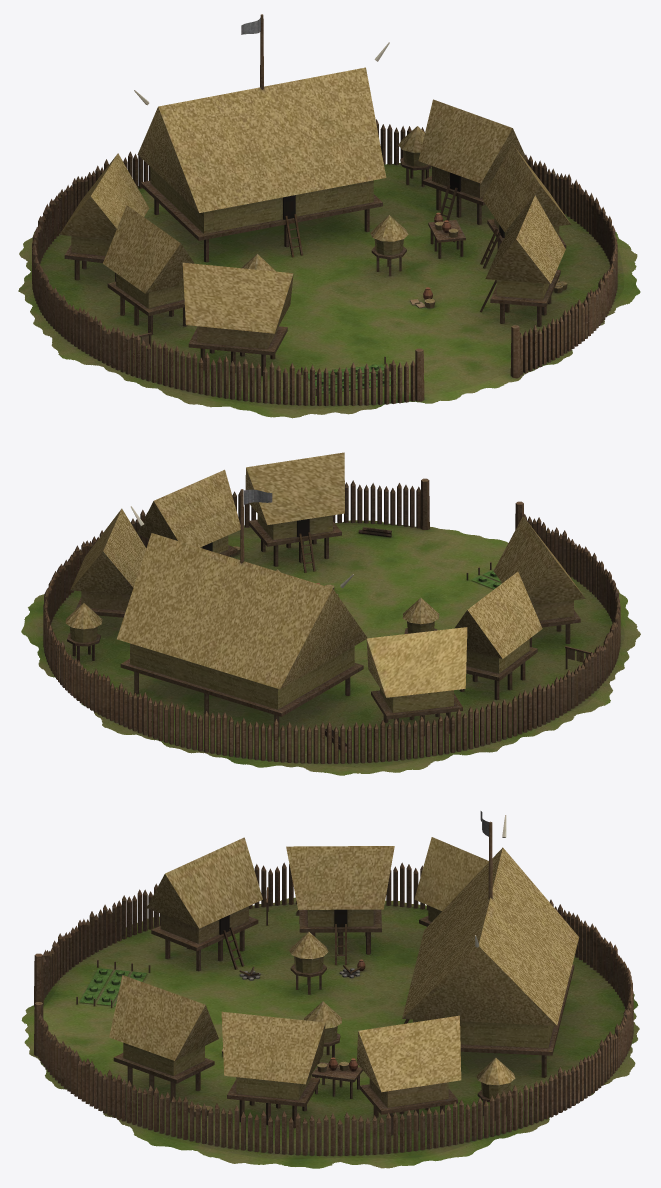
File: stone-town-small-a-monsoon.glb
The picture shows the model from 3 angles, top to bottom: view 1: azimuth 30°, elevation 25°; view 2: azimuth 150°, elevation 25°; view 3: azimuth 270°, elevation 25°; orthographic projection. The views are drawn at different scales.
Visible parts, largest first — view 1: LOD0; view 2: LOD0; view 3: LOD0.
Boxes of the visible parts, box(x1,y1,x2,y2) form: LOD0: box(18, 14, 640, 418); LOD0: box(21, 452, 640, 775); LOD0: box(21, 811, 639, 1168).
Size of what is drawn, in the model's own units: 3.98 by 1.45 by 3.81.
3 materials, 3 textured.
